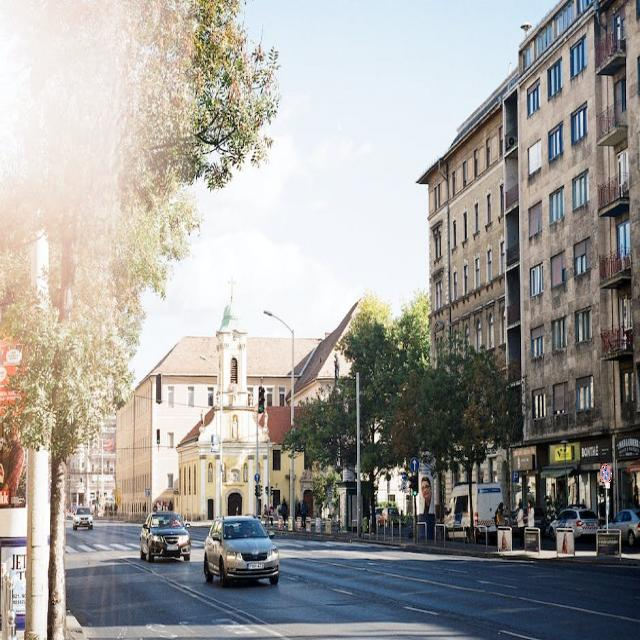no stopping: (600, 463, 612, 482)
